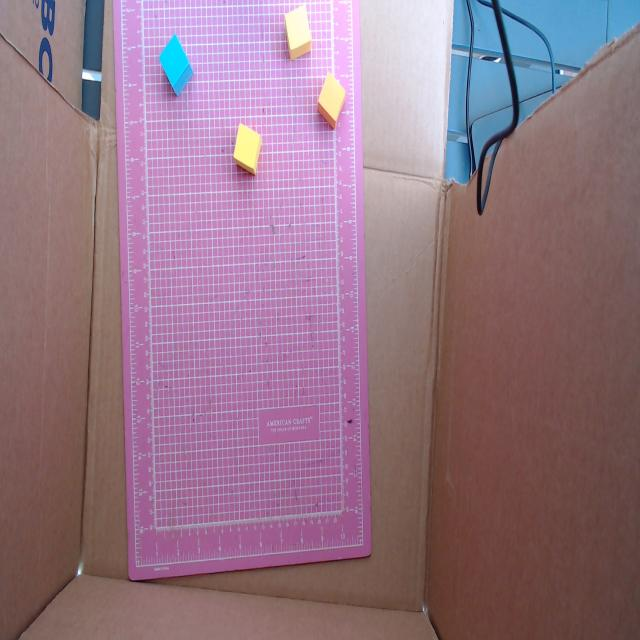bluecube: (159, 34, 193, 95)
orangecube: (318, 72, 346, 129)
yellowcube: (234, 123, 261, 175), (285, 5, 311, 59)
